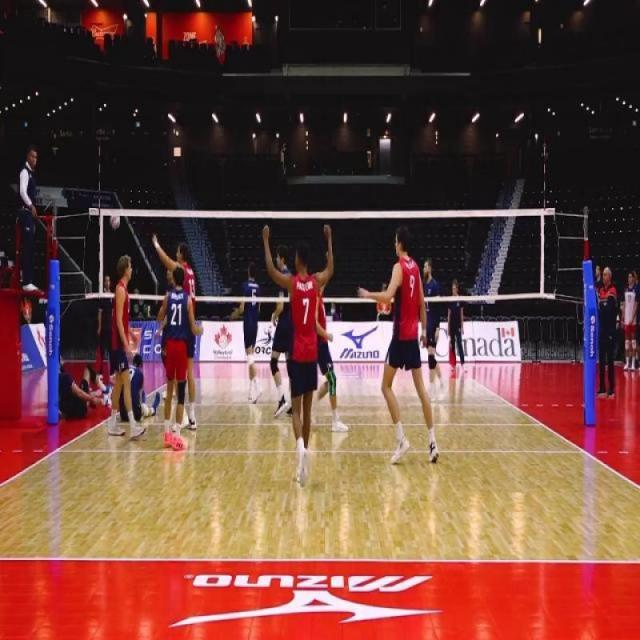volleyball: (109, 216, 121, 230)
